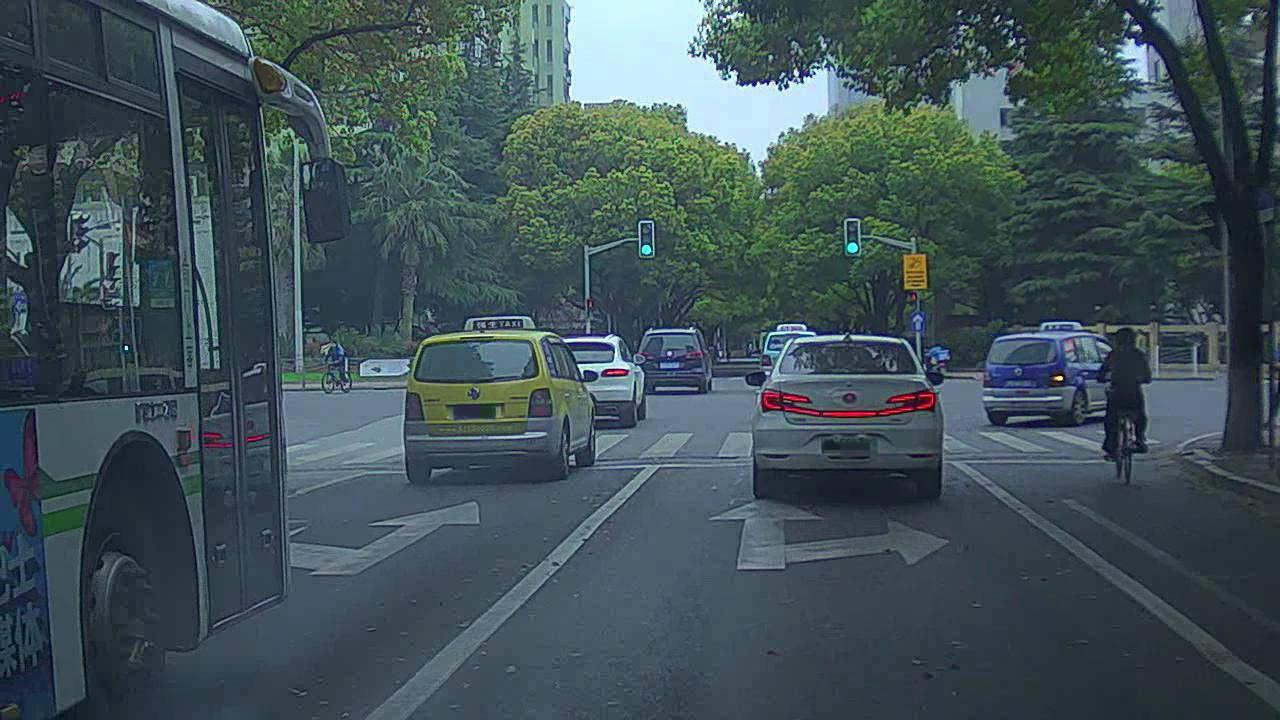traffic_light: (843, 218, 863, 256), (636, 221, 656, 258)
